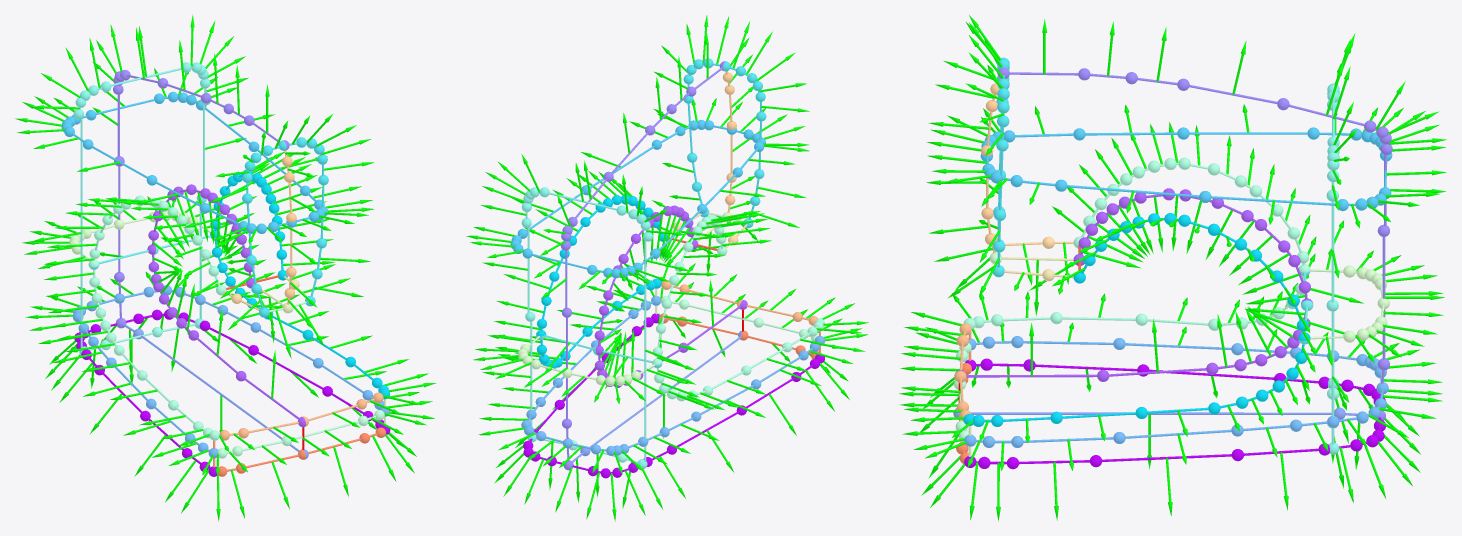
Rendered from t2f_sewing_machine.gltf.
3 views of the same model, side by side, from view 1: azimuth 30°, elevation 25°; view 2: azimuth 150°, elevation 25°; view 3: azimuth 270°, elevation 25° (orthographic). The views are drawn at different scales.
Size of the model in its own units: 0.5831 by 0.8078 by 0.8883.
